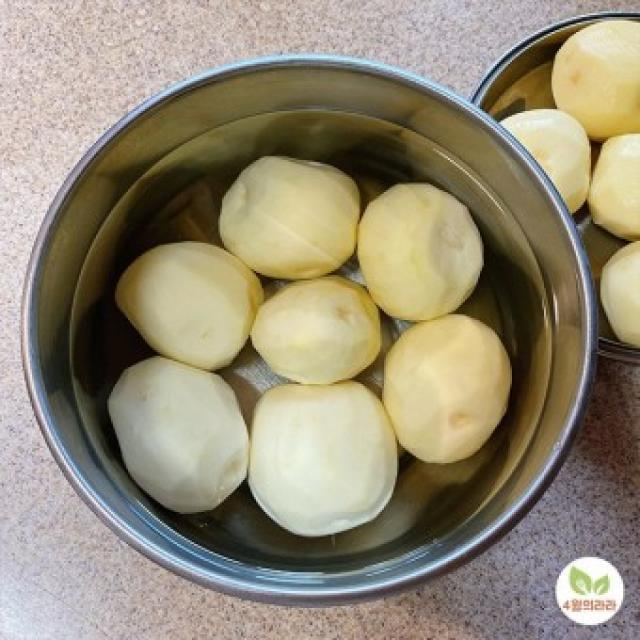potato: (108, 353, 254, 515), (253, 378, 398, 538), (375, 312, 511, 458), (114, 234, 255, 372), (357, 179, 485, 323), (220, 152, 368, 276), (245, 270, 382, 394), (478, 100, 586, 218), (555, 13, 640, 141), (586, 122, 640, 235), (589, 228, 640, 346)
